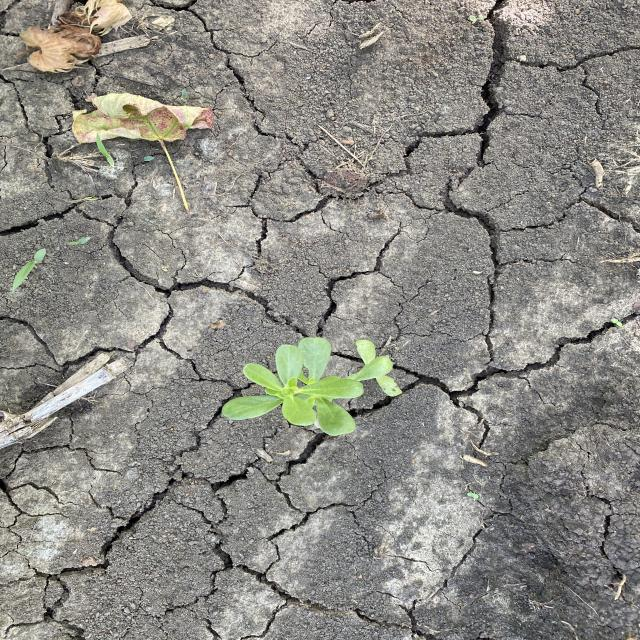Purslane: (220, 335, 406, 438)
